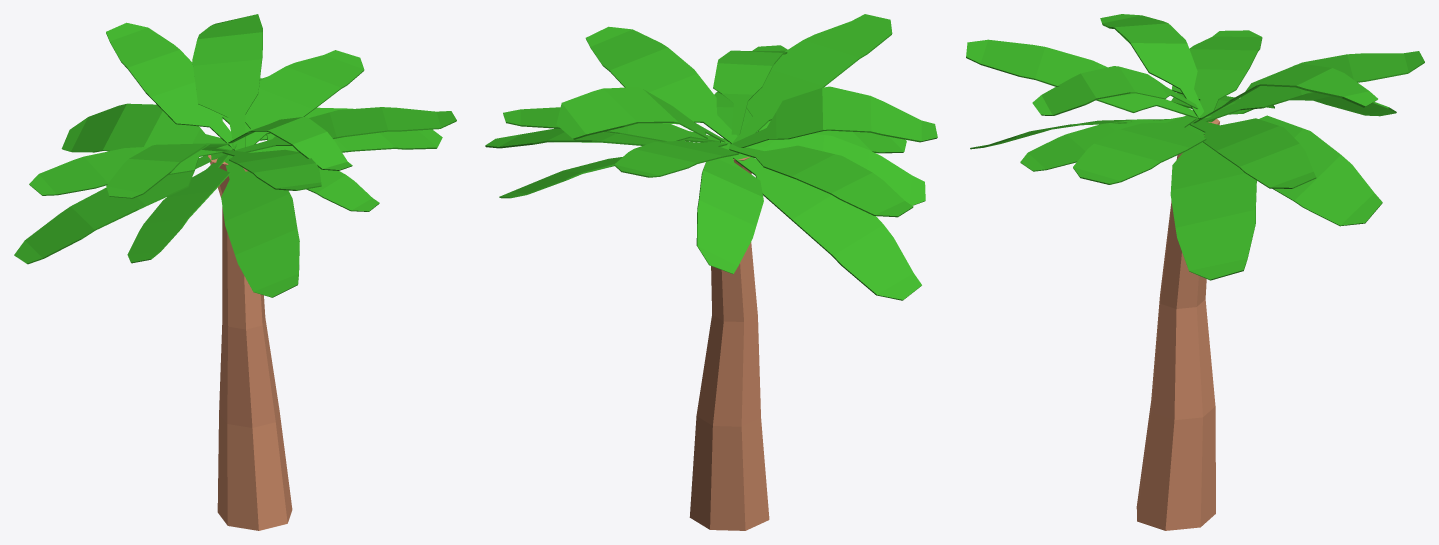
The model's file is PalmTree2.fbx.
3 renders of one model, left to right at view 1: azimuth 30°, elevation 25°; view 2: azimuth 150°, elevation 25°; view 3: azimuth 270°, elevation 25°, orthographic. The views are drawn at different scales.
Parts seen in each view (by area): view 1: Palm tree2, leave.020, leave.024, leave.018, leave.029, leave.019, leave.023, leave.021, leave.016, leave.026, leave.027, leave.025 (+3 smaller); view 2: Palm tree2, leave.019, leave.025, leave.016, leave.027, leave.023, leave.026, leave.024, leave.028, leave.021, leave.018, leave.029 (+4 smaller); view 3: Palm tree2, leave.017, leave.022, leave.029, leave.016, leave.025, leave.027, leave.026, leave.018, leave.028, leave.024, leave.015 (+2 smaller).
Part boxes in pixels (x1=…): Palm tree2: x1=208, y1=155, x2=292, y2=530; leave.020: x1=221, y1=155, x2=299, y2=297; leave.024: x1=192, y1=14, x2=262, y2=148; leave.018: x1=106, y1=22, x2=235, y2=150; leave.029: x1=235, y1=50, x2=364, y2=149; leave.019: x1=14, y1=150, x2=233, y2=264; leave.023: x1=61, y1=103, x2=236, y2=152; leave.021: x1=127, y1=154, x2=230, y2=263; leave.016: x1=234, y1=107, x2=456, y2=152; leave.026: x1=29, y1=146, x2=232, y2=195; leave.027: x1=106, y1=143, x2=231, y2=198; leave.025: x1=222, y1=149, x2=321, y2=190; Palm tree2: x1=689, y1=156, x2=769, y2=530; leave.019: x1=733, y1=153, x2=921, y2=300; leave.025: x1=732, y1=14, x2=892, y2=143; leave.016: x1=585, y1=26, x2=737, y2=143; leave.027: x1=731, y1=86, x2=937, y2=147; leave.023: x1=696, y1=140, x2=763, y2=273; leave.026: x1=728, y1=144, x2=913, y2=217; leave.024: x1=556, y1=87, x2=725, y2=142; leave.028: x1=713, y1=45, x2=787, y2=134; leave.021: x1=746, y1=133, x2=925, y2=205; leave.018: x1=614, y1=141, x2=738, y2=177; leave.029: x1=503, y1=107, x2=730, y2=143; Palm tree2: x1=1136, y1=118, x2=1219, y2=530; leave.017: x1=1170, y1=125, x2=1256, y2=280; leave.022: x1=1202, y1=115, x2=1382, y2=226; leave.029: x1=1189, y1=118, x2=1316, y2=188; leave.016: x1=1073, y1=115, x2=1206, y2=184; leave.025: x1=966, y1=39, x2=1198, y2=118; leave.027: x1=1100, y1=14, x2=1203, y2=118; leave.026: x1=1171, y1=30, x2=1262, y2=117; leave.018: x1=1198, y1=51, x2=1424, y2=121; leave.028: x1=1032, y1=66, x2=1197, y2=115; leave.024: x1=1193, y1=63, x2=1377, y2=123; leave.015: x1=1020, y1=117, x2=1197, y2=171.
Size of the model in its own units: 635 by 634 by 571.
